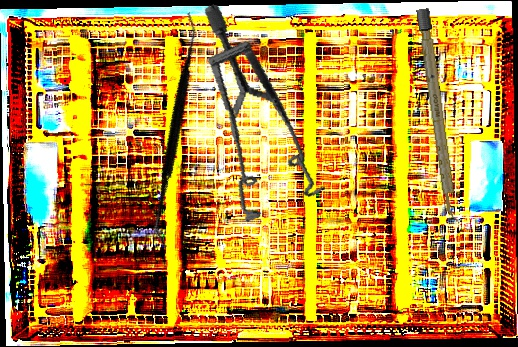Scalpel Handle: (416, 8, 459, 221)
Spatula Surgical: (80, 10, 275, 250)
Speculum: (158, 2, 360, 239)
